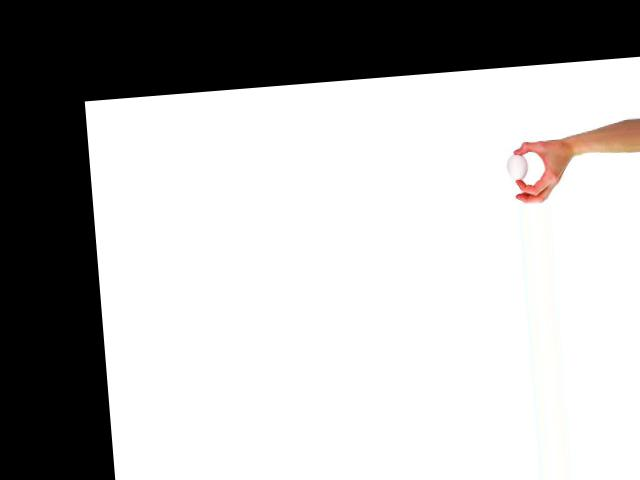egg: (506, 153, 529, 180)
